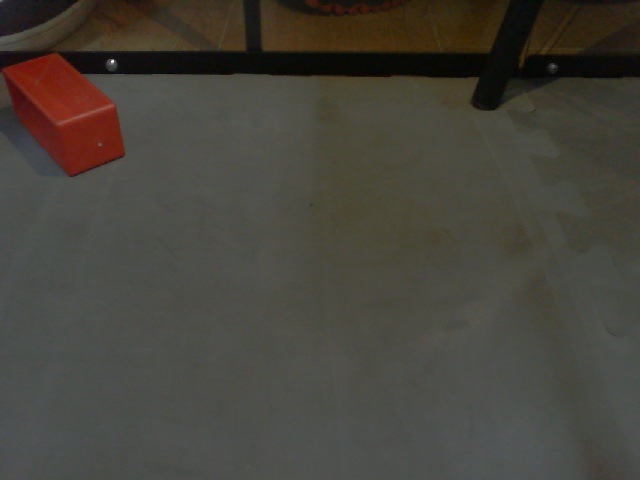RedSample: (1, 52, 126, 178)
